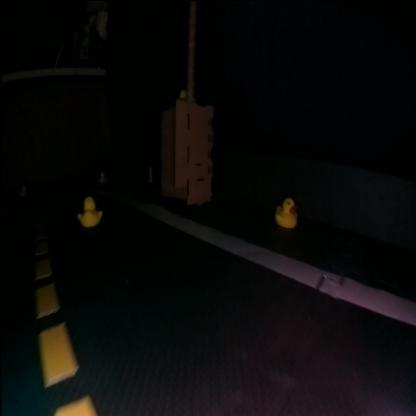Duckie: (78, 194, 102, 228), (274, 196, 298, 226), (98, 170, 108, 183)
